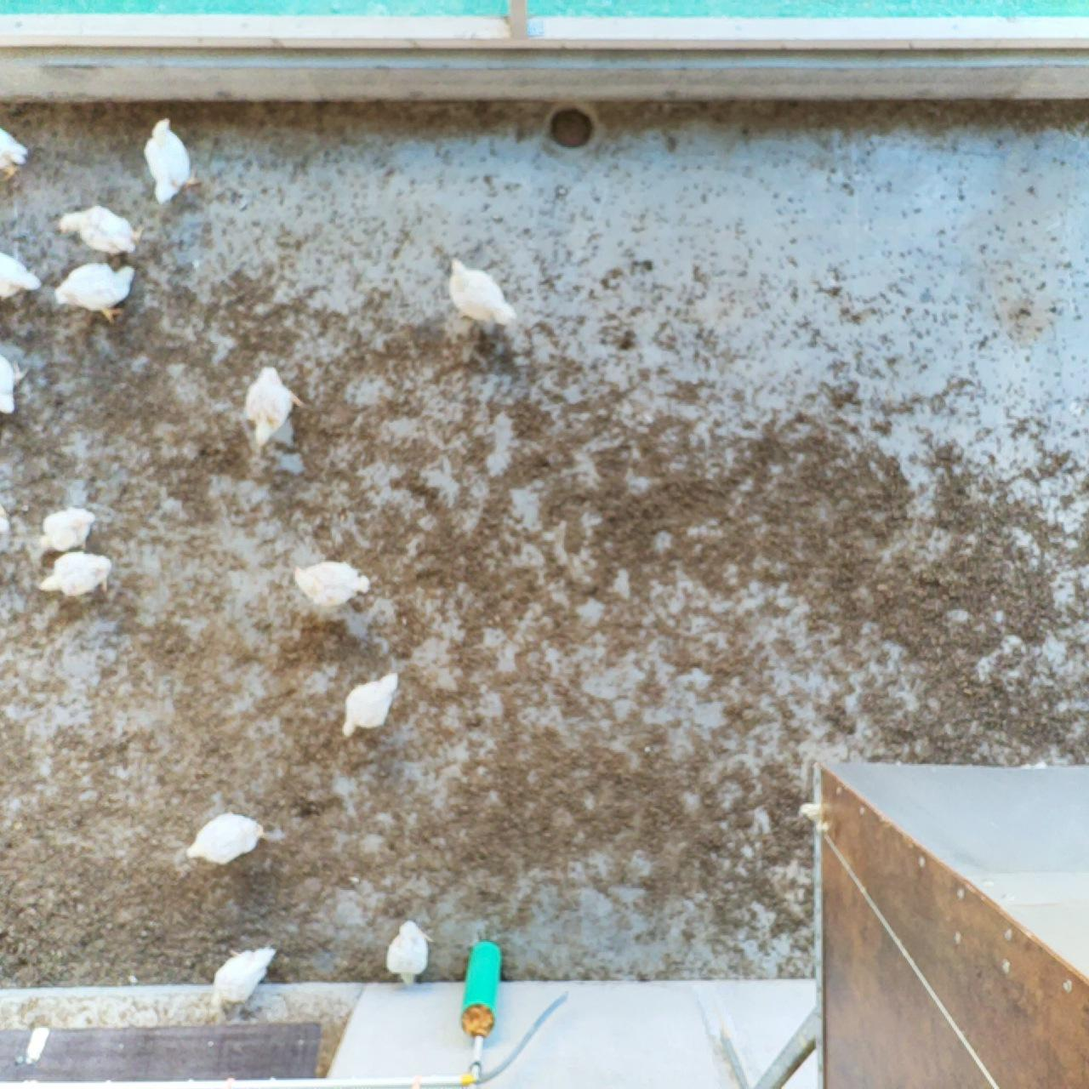chicken: (443, 252, 520, 334), (240, 363, 308, 451), (142, 114, 205, 207), (52, 260, 139, 325), (206, 942, 282, 1013), (53, 202, 146, 257), (185, 810, 267, 866), (291, 556, 372, 610), (339, 670, 402, 737), (35, 550, 114, 599), (383, 916, 435, 978), (34, 506, 96, 553), (0, 248, 43, 308), (0, 349, 31, 420), (0, 124, 31, 185)
